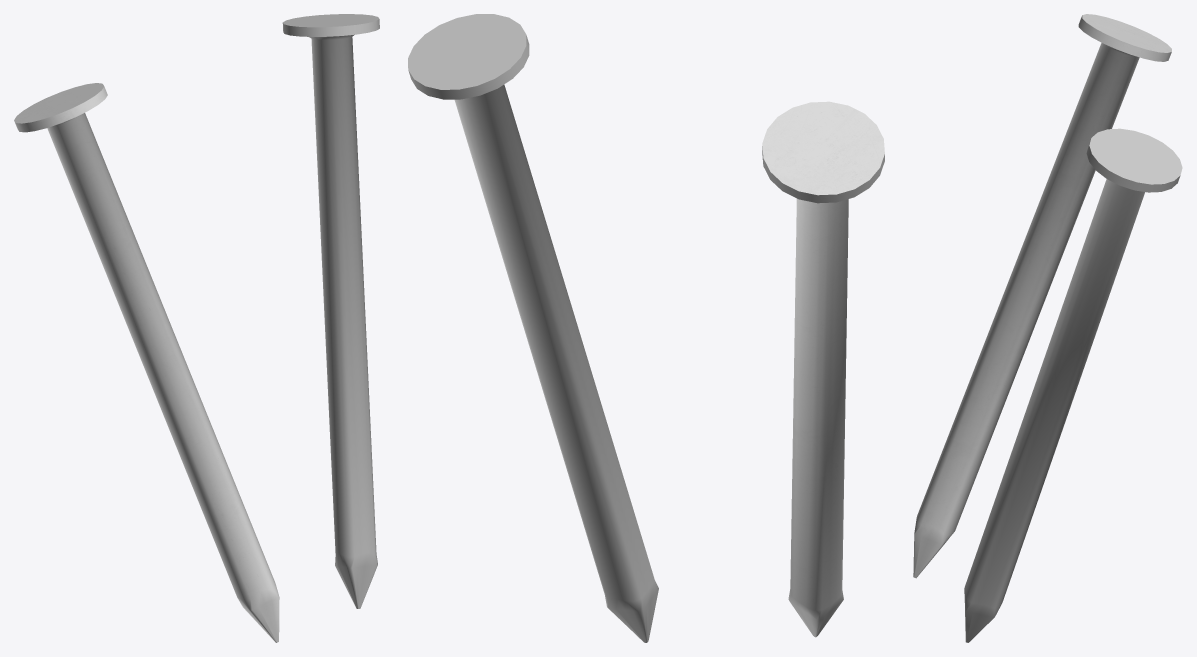
The model's file is Nail.fbx.
The picture shows the model from 3 angles, left to right: view 1: azimuth 30°, elevation 25°; view 2: azimuth 150°, elevation 25°; view 3: azimuth 270°, elevation 25°; orthographic projection. The views are drawn at different scales.
Parts seen in each view (by area): view 1: NailRust, Nail; view 2: NailRust, Nail; view 3: Nail, NailRust.
Boxes of the visible parts, left/top/right/bottom form: NailRust: left=282, top=14, right=379, bottom=608; Nail: left=14, top=83, right=279, bottom=642; NailRust: left=408, top=14, right=658, bottom=642; Nail: left=762, top=101, right=884, bottom=637; Nail: left=913, top=14, right=1171, bottom=578; NailRust: left=964, top=128, right=1182, bottom=642.
Size of the model in its own units: 0.7145 by 1 by 0.4634.
